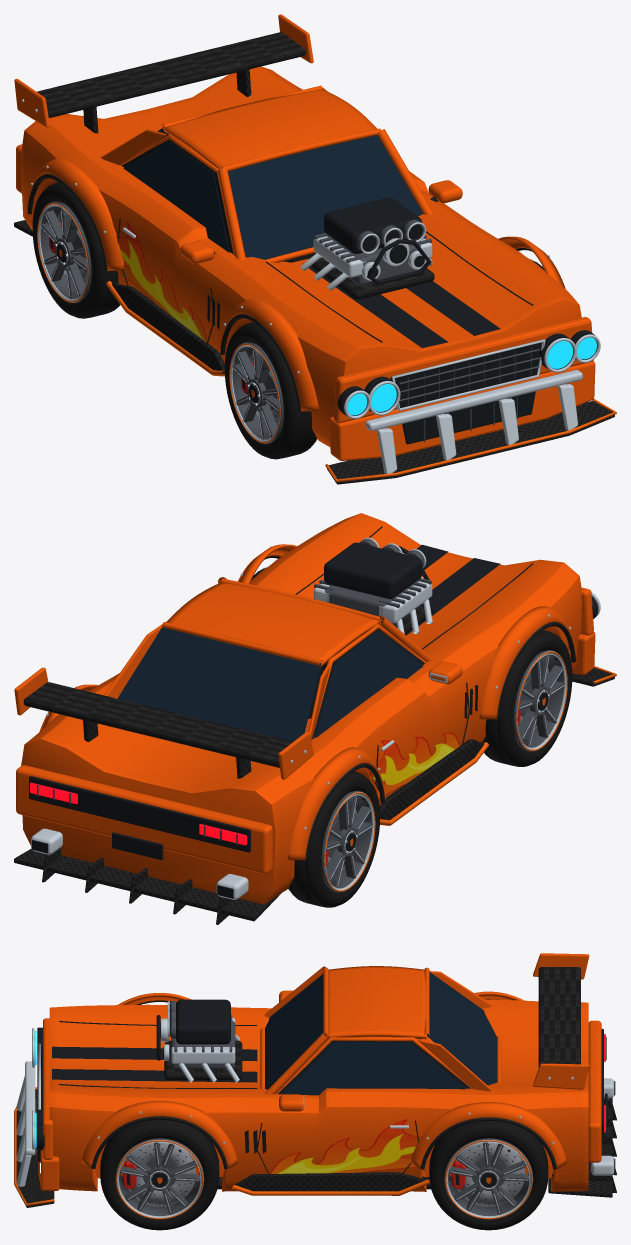
The model's file is 07_orange_muscle.glb.
3 renders of one model, top to bottom at view 1: azimuth 30°, elevation 25°; view 2: azimuth 150°, elevation 25°; view 3: azimuth 270°, elevation 25°, orthographic. The views are drawn at different scales.
Parts seen in each view (by area): view 1: Vehicle_Static_Body, Wheel_FL_Geometry, Wheel_RL_Geometry; view 2: Vehicle_Static_Body, Wheel_FL_Geometry, Wheel_RL_Geometry; view 3: Vehicle_Static_Body, Wheel_FR_Geometry, Wheel_RR_Geometry.
Boxes of the visible parts, x1,y1,x2,y2 form: Vehicle_Static_Body: (14,14,616,484); Wheel_FL_Geometry: (224,322,316,459); Wheel_RL_Geometry: (32,182,120,318); Vehicle_Static_Body: (14,513,616,924); Wheel_FL_Geometry: (482,630,572,766); Wheel_RL_Geometry: (288,771,380,907); Vehicle_Static_Body: (14,953,616,1207); Wheel_FR_Geometry: (100,1119,219,1230); Wheel_RR_Geometry: (429,1121,548,1230).
Bounding box in the file's own units: 2.54 × 1.7 × 5.26.
17 materials, 5 textured.
